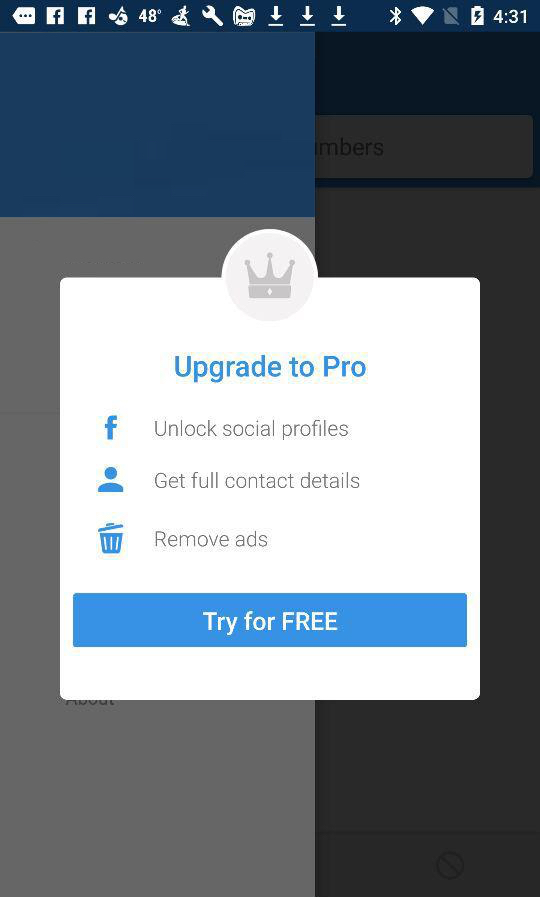Icon: (98, 466, 126, 494), (104, 414, 119, 441)
Image: (222, 229, 319, 323), (98, 522, 125, 555)
Modal: (60, 229, 481, 701)
Text: (174, 354, 367, 384), (155, 419, 350, 441), (155, 471, 361, 490), (155, 529, 269, 548)
TextButton: (73, 593, 468, 648)
UpperTaskBar: (1, 1, 540, 33)
